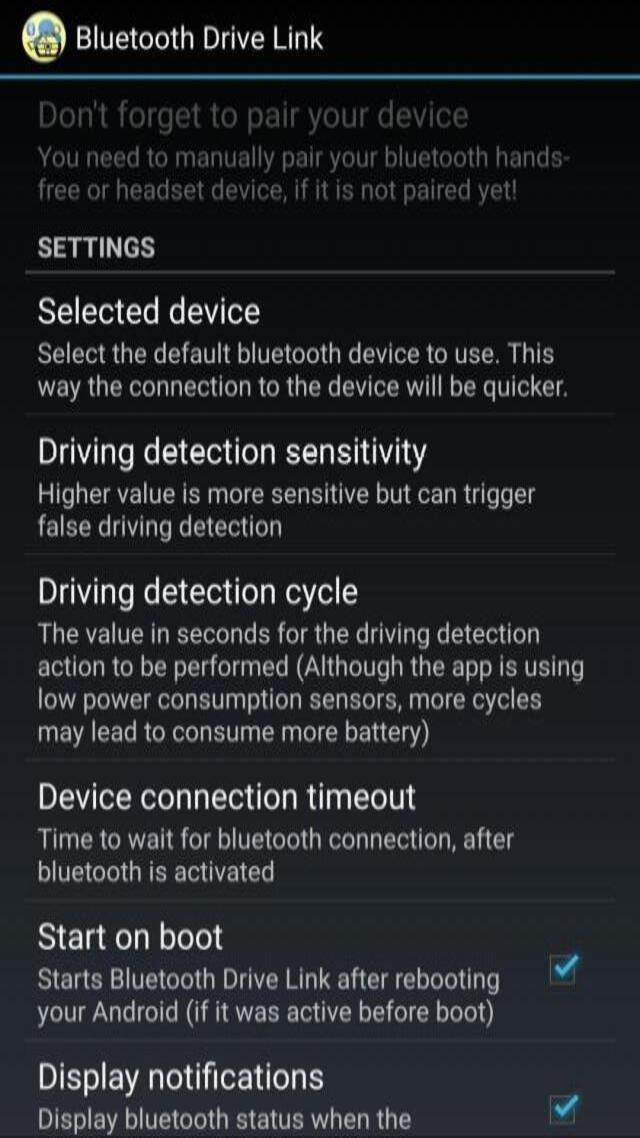CheckedTextView: (546, 1089, 588, 1128), (543, 951, 587, 984)
Image: (15, 9, 70, 65), (20, 9, 66, 66)
Text: (22, 137, 582, 173), (32, 652, 594, 686), (30, 95, 478, 136), (31, 372, 577, 405), (31, 431, 437, 475), (32, 996, 500, 1033), (29, 178, 530, 212), (33, 479, 540, 512), (31, 820, 522, 854), (31, 776, 426, 818), (29, 338, 562, 368), (31, 619, 544, 649), (29, 568, 367, 612), (31, 962, 507, 992), (31, 1100, 422, 1136), (30, 1054, 332, 1100), (34, 718, 436, 750), (32, 690, 546, 714), (36, 290, 269, 329), (32, 856, 282, 890), (74, 22, 337, 54), (34, 513, 286, 546), (34, 916, 230, 953), (30, 232, 163, 264)
